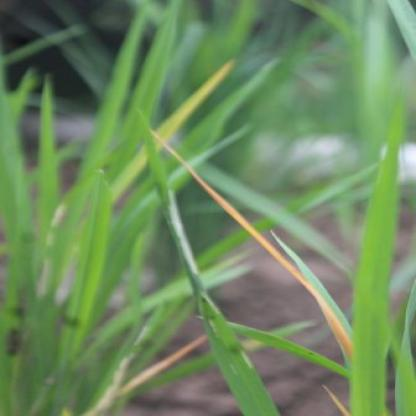Tungro: (85, 58, 243, 211), (94, 325, 215, 416)
